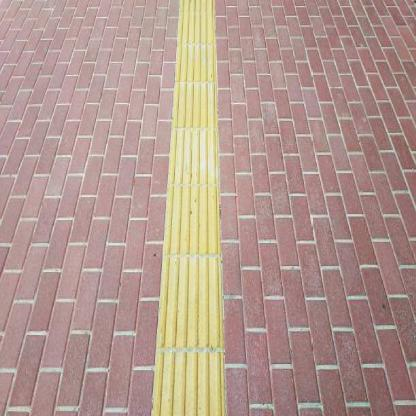podotacti: (151, 3, 225, 416)
